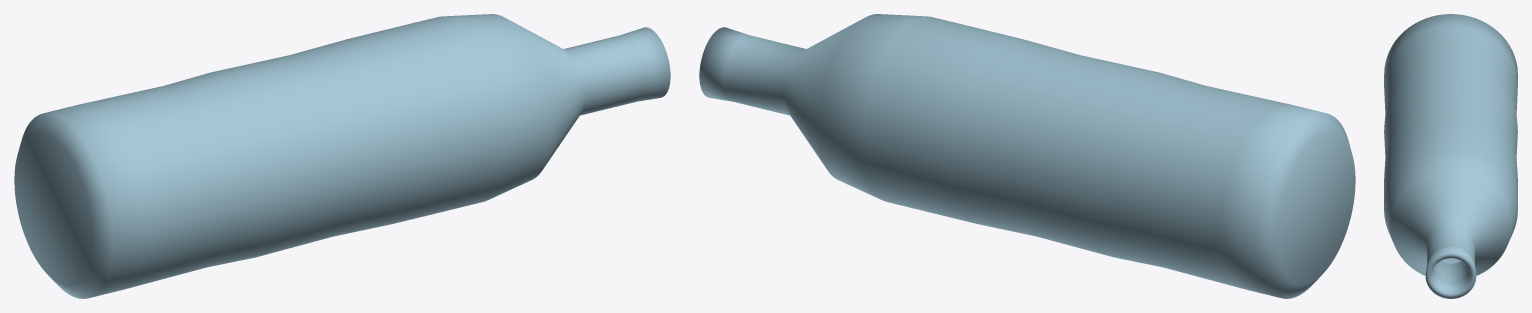
The picture shows the model from 3 angles, left to right: view 1: azimuth 30°, elevation 25°; view 2: azimuth 150°, elevation 25°; view 3: azimuth 270°, elevation 25°; orthographic projection. The views are drawn at different scales.
Visible parts, largest first — view 1: B102; view 2: B102; view 3: B102.
Boxes of the visible parts, x1=… form: B102: x1=14, y1=14, x2=670, y2=298; B102: x1=699, y1=14, x2=1355, y2=298; B102: x1=1384, y1=14, x2=1517, y2=298.
Bounding box in the file's own units: 24.7 × 6.8 × 6.8.
